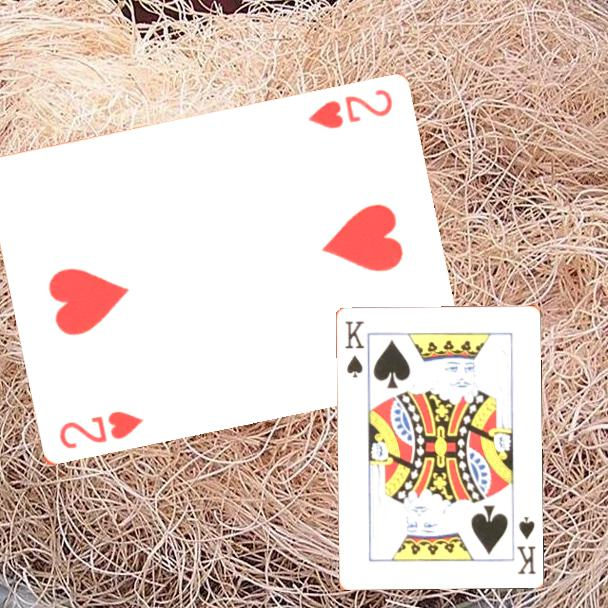h02: (304, 86, 395, 133), (55, 408, 146, 453)
s13: (341, 317, 367, 380), (513, 513, 538, 577)
